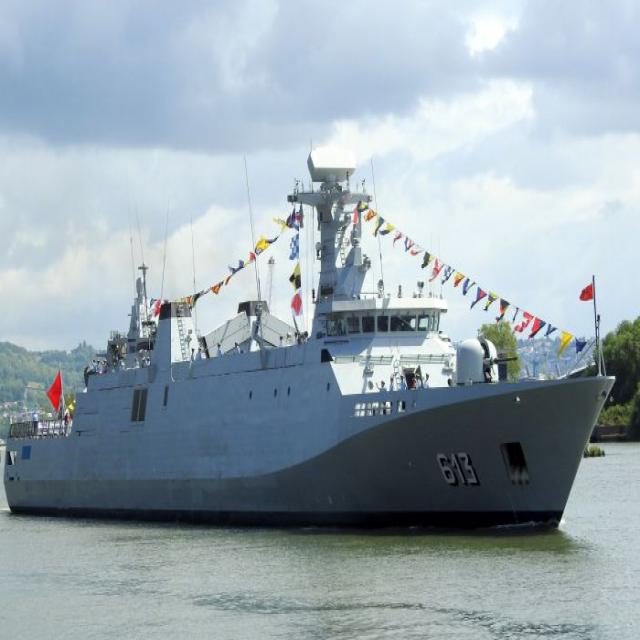Fragata: (1, 139, 623, 530)
